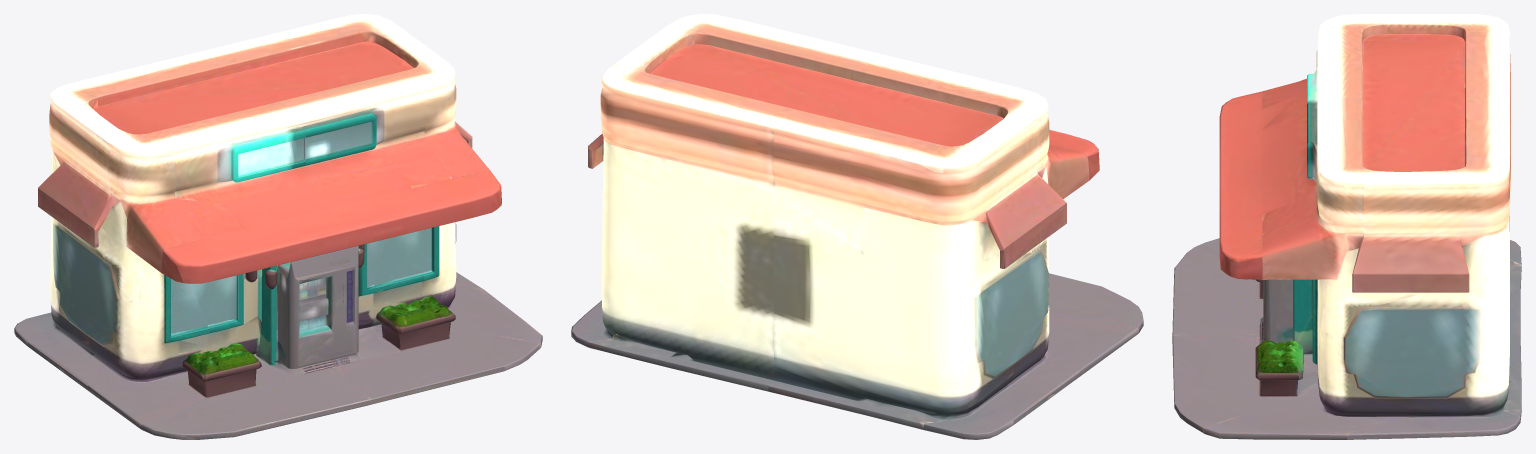
The model's file is market.glb.
3 views of the same model, side by side, from view 1: azimuth 30°, elevation 25°; view 2: azimuth 150°, elevation 25°; view 3: azimuth 270°, elevation 25° (orthographic). The views are drawn at different scales.
Parts seen in each view (by area): view 1: mesh_node; view 2: mesh_node; view 3: mesh_node.
Boxes of the visible parts, <box> form: mesh_node: <box>14,14,542,439</box>; mesh_node: <box>571,14,1143,439</box>; mesh_node: <box>1172,14,1521,439</box>.
Size of the model in its own units: 1.91 by 1.09 by 1.41.
Materials: 1 (1 with a texture image).
